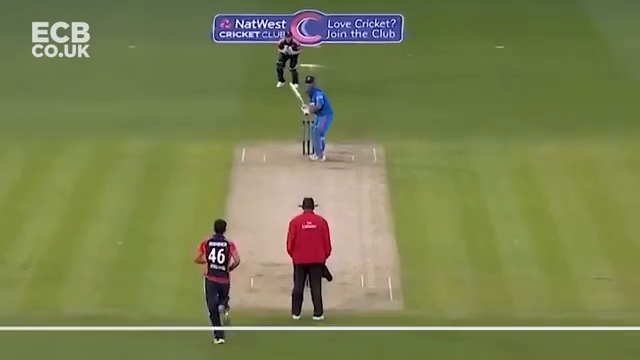Bowler: (193, 220, 239, 346)
Keeper: (274, 30, 299, 87)
Umpire: (285, 197, 333, 322)
batsman: (298, 75, 333, 165)
